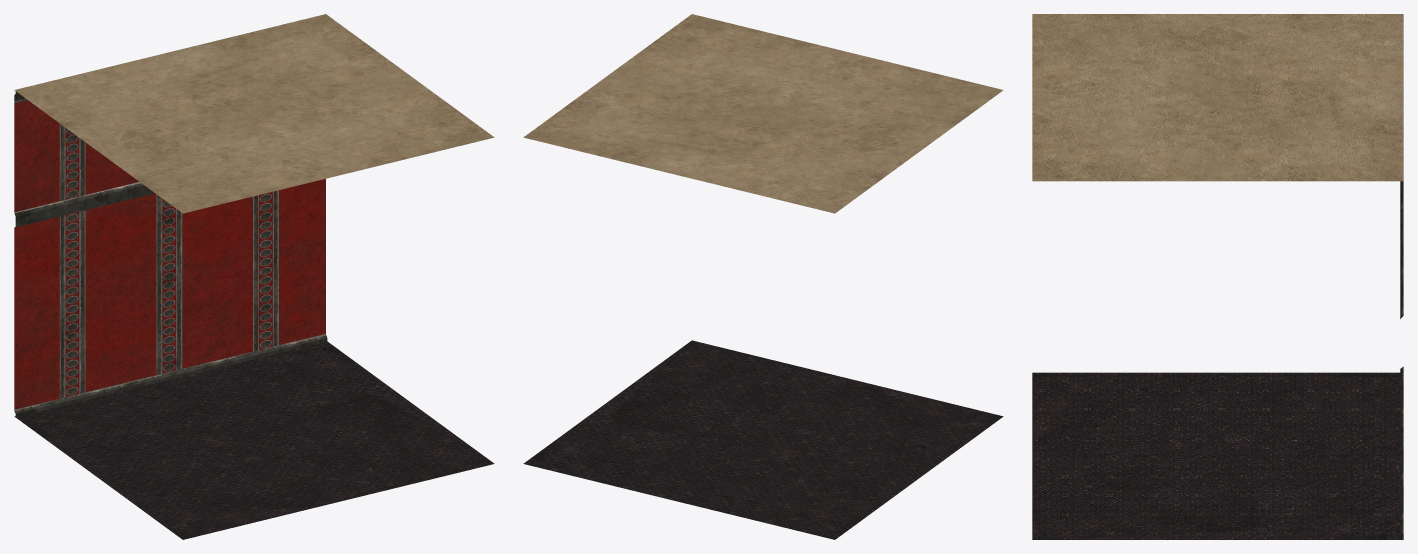
File: pared_centro.obj
3 renders of one model, left to right at view 1: azimuth 30°, elevation 25°; view 2: azimuth 150°, elevation 25°; view 3: azimuth 270°, elevation 25°, orthographic. The views are drawn at different scales.
Visible parts, largest first — view 1: pared_medio; view 2: pared_medio; view 3: pared_medio.
Boxes of the visible parts, <box> form: pared_medio: <box>14,14,494,539</box>; pared_medio: <box>523,14,1003,539</box>; pared_medio: <box>1032,14,1403,539</box>.
Bounding box in the file's own units: 256 × 256 × 240.
3 materials, 3 textured.
